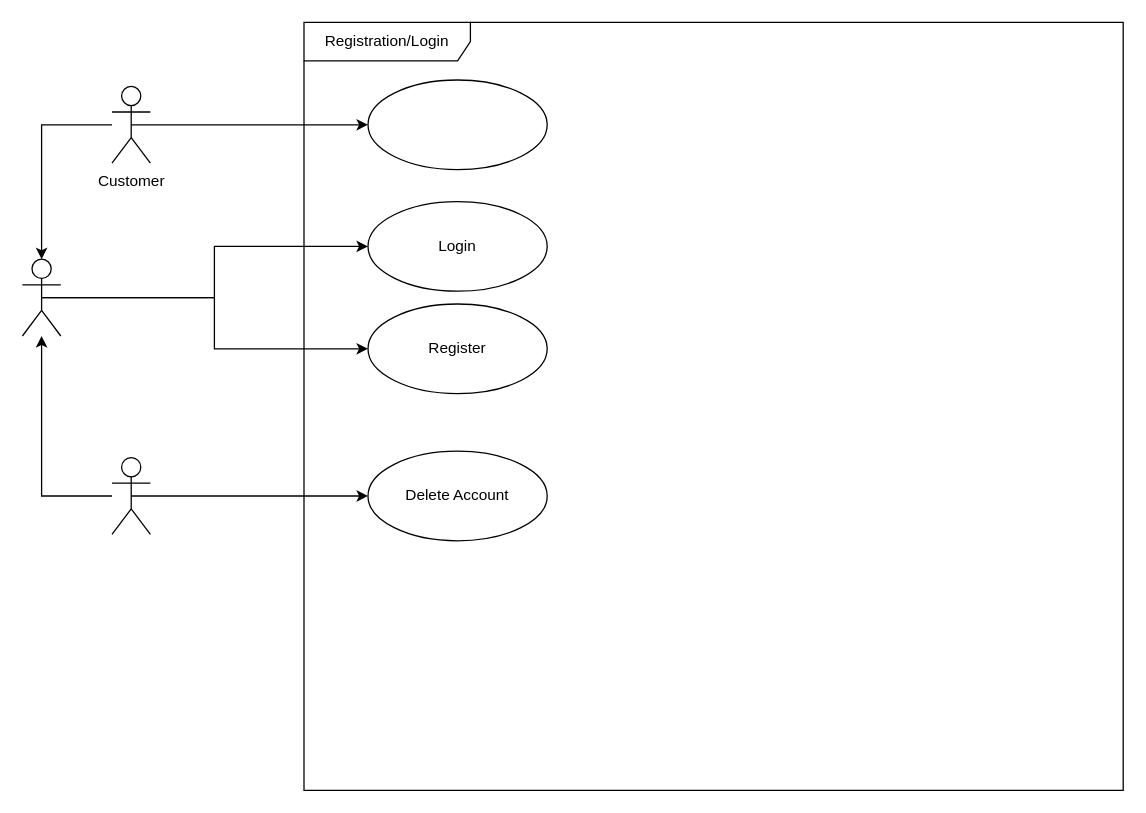
Some shapes in this 1146 by 813 pixel diagram are drawn without their labels. The centre of each missing label's shape, as x and y in pixels:
"Administrator" belongs at [130,495].
"Update Account" belongs at [457,124].
"User" belongs at [41,297].
